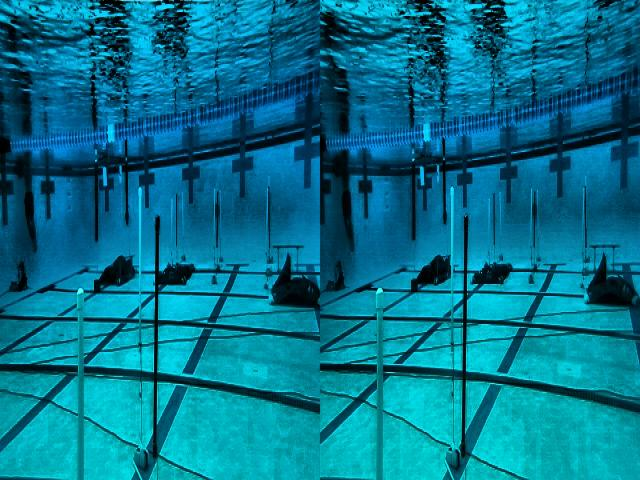gate: (92, 138, 129, 244), (411, 155, 446, 241)
path_marker: (589, 243, 621, 276), (272, 243, 304, 275), (116, 254, 135, 288), (435, 255, 451, 280)
